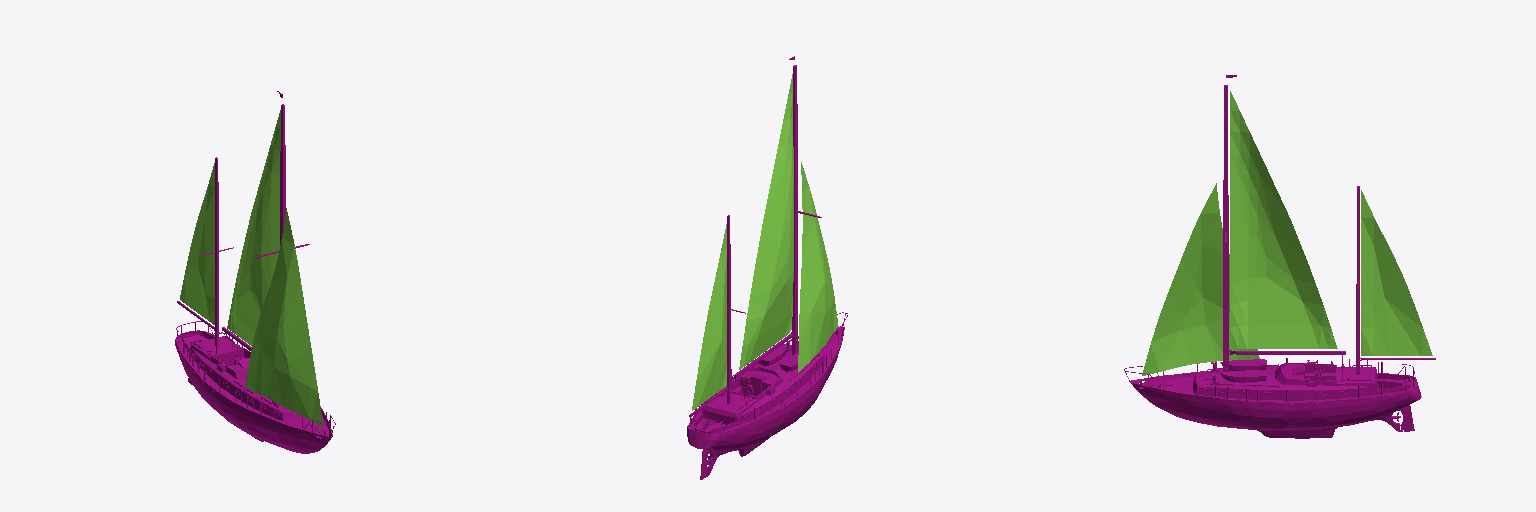
The picture shows the model from 3 angles: view 1: azimuth 30°, elevation 25°; view 2: azimuth 150°, elevation 25°; view 3: azimuth 270°, elevation 25°; orthographic projection.
Parts seen in each view (by area): view 1: Group_001, CILNUEVOS_001; view 2: Group_001, CILNUEVOS_001; view 3: Group_001, CILNUEVOS_001.
Boxes of the visible parts, x1,y1,x2,y2 form: Group_001: [180, 110, 323, 427]; CILNUEVOS_001: [175, 91, 335, 453]; Group_001: [692, 74, 838, 410]; CILNUEVOS_001: [687, 56, 847, 479]; Group_001: [1142, 91, 1432, 375]; CILNUEVOS_001: [1124, 75, 1435, 438].
Bounding box in the file's own units: 92918 × 454691 × 352565.